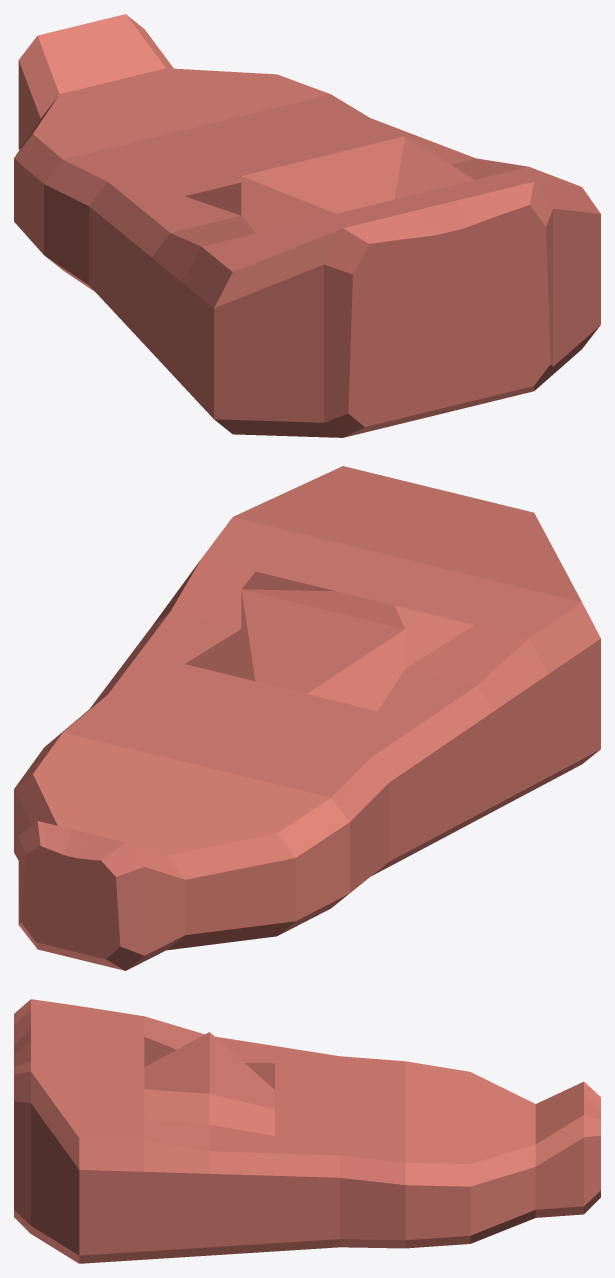
File: calder_medium_b.glb
3 views of the same model, one above another, from view 1: azimuth 30°, elevation 25°; view 2: azimuth 150°, elevation 25°; view 3: azimuth 270°, elevation 25° (orthographic). The views are drawn at different scales.
Visible parts, largest first — view 1: calder_medium_b; view 2: calder_medium_b; view 3: calder_medium_b.
Boxes of the visible parts, <box> form: calder_medium_b: <box>14,14,600,437</box>; calder_medium_b: <box>14,466,600,970</box>; calder_medium_b: <box>14,999,600,1263</box>.
Size of the model in its own units: 3.6 by 1.86 by 6.1.
